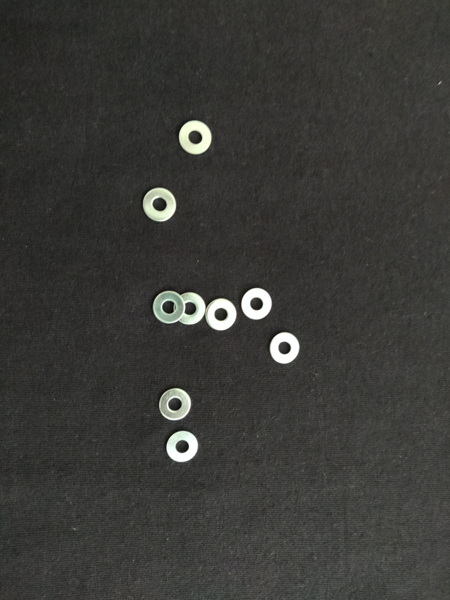circles: (177, 118, 214, 158), (142, 186, 178, 226), (150, 290, 186, 327), (171, 290, 207, 327), (203, 297, 239, 334), (157, 387, 193, 424), (165, 429, 201, 466), (240, 286, 275, 323), (267, 330, 302, 367)
